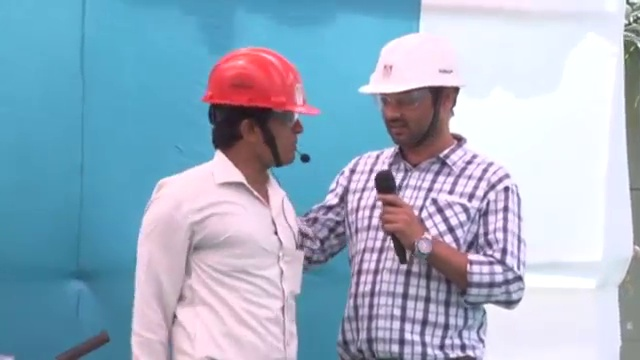helmet: (200, 45, 324, 118), (355, 31, 466, 96)
helmet_on: (199, 45, 322, 172), (351, 31, 468, 157)
person: (297, 33, 530, 360), (125, 45, 322, 360)
